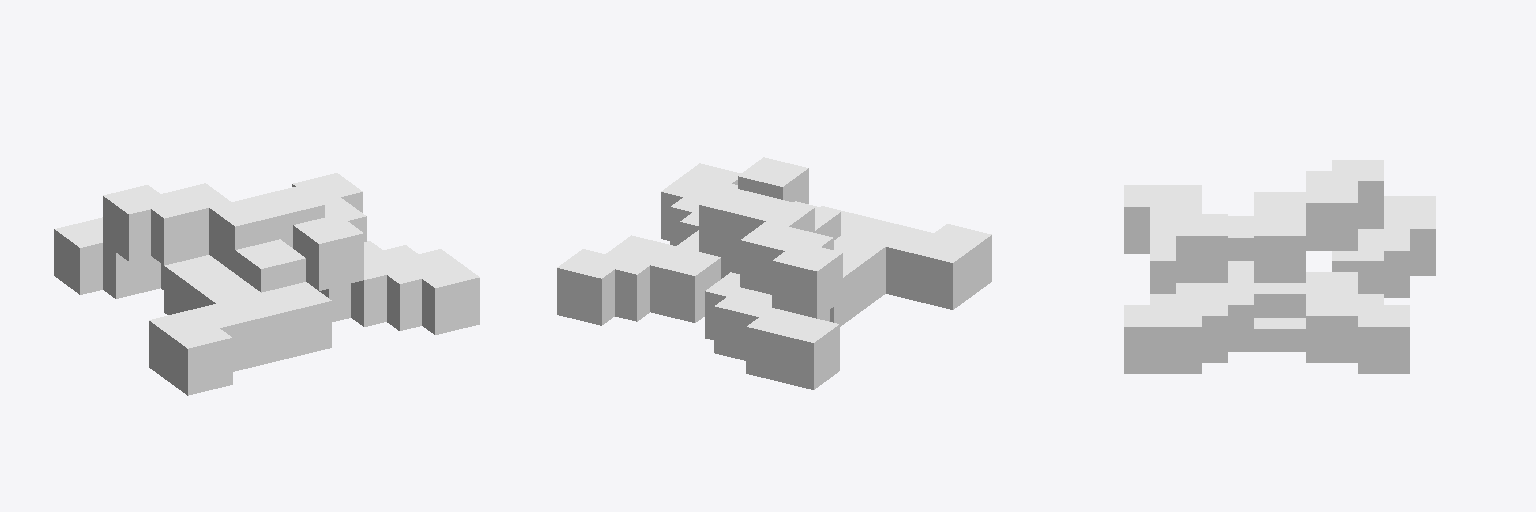
Rendered from nuotio.obj.
3 views of the same model, side by side, from view 1: azimuth 30°, elevation 25°; view 2: azimuth 150°, elevation 25°; view 3: azimuth 270°, elevation 25° (orthographic).
Size of the model in its own units: 13 by 4 by 12.